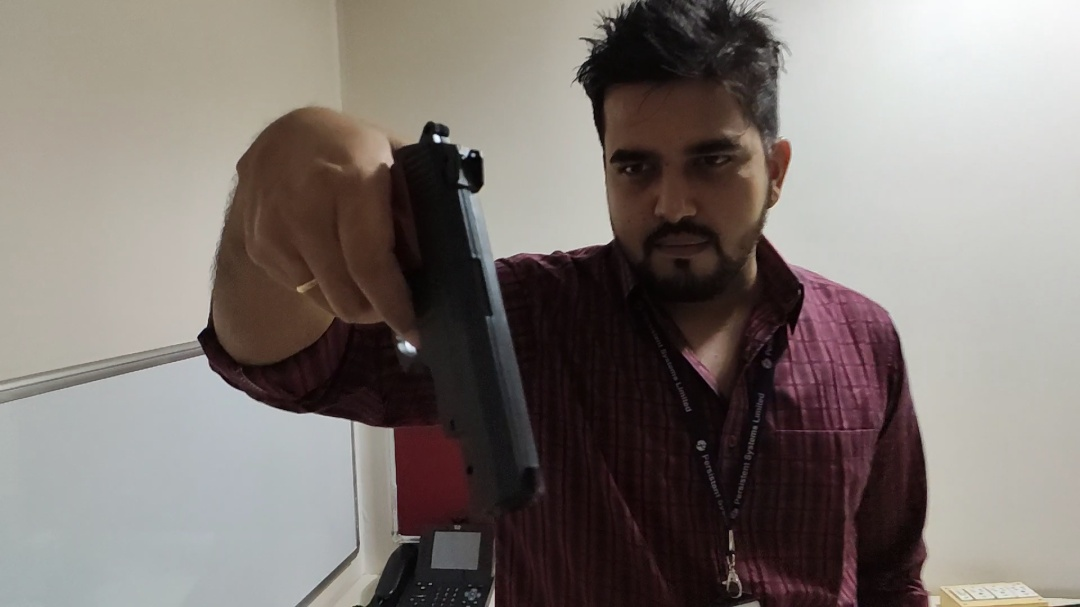gun: (335, 101, 573, 529)
